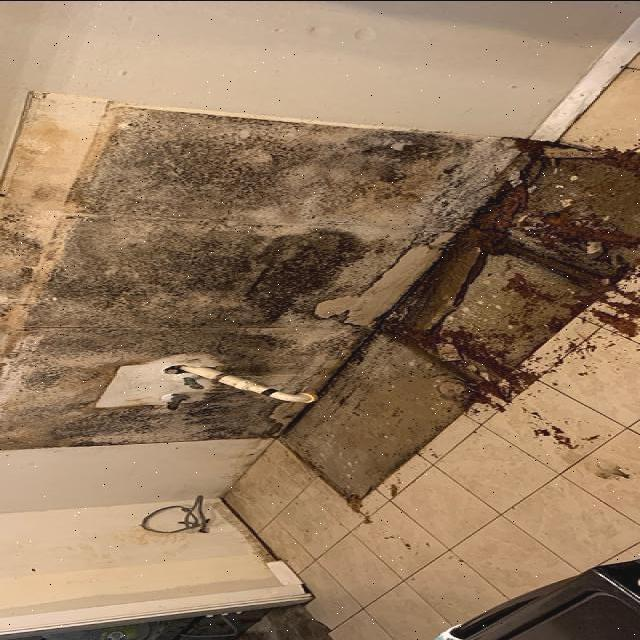dampness: (24, 91, 640, 467)
